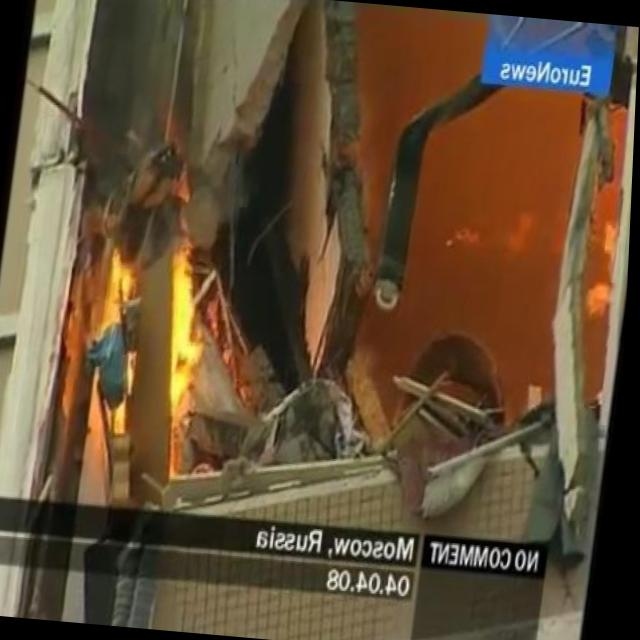fire: (79, 197, 225, 453)
